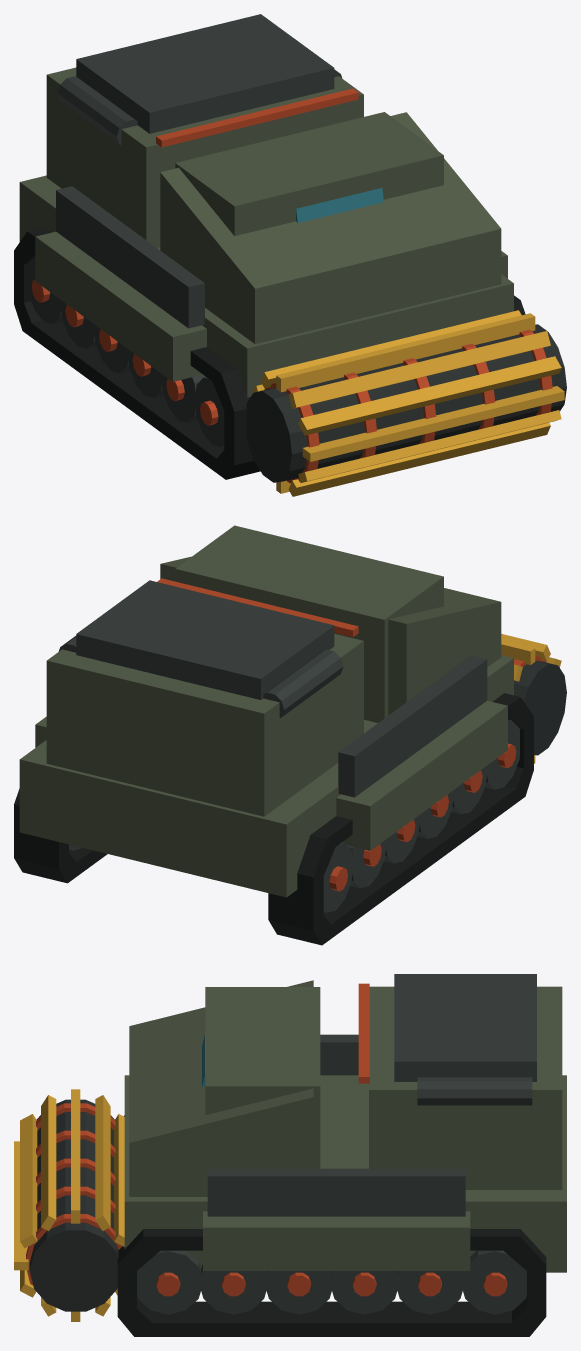
The model's file is Bastion_Harvester_Static.obj.
The picture shows the model from 3 angles, top to bottom: view 1: azimuth 30°, elevation 25°; view 2: azimuth 150°, elevation 25°; view 3: azimuth 270°, elevation 25°; orthographic projection. The views are drawn at different scales.
Parts seen in each view (by area): view 1: Bastion_Harvester_Static; view 2: Bastion_Harvester_Static; view 3: Bastion_Harvester_Static.
Part boxes in pixels (x1=…): Bastion_Harvester_Static: x1=14, y1=14, x2=566, y2=496; Bastion_Harvester_Static: x1=14, y1=525, x2=566, y2=945; Bastion_Harvester_Static: x1=14, y1=974, x2=566, y2=1336.
Bounding box in the file's own units: 4.08 × 2.97 × 6.
1 material, 1 textured.
